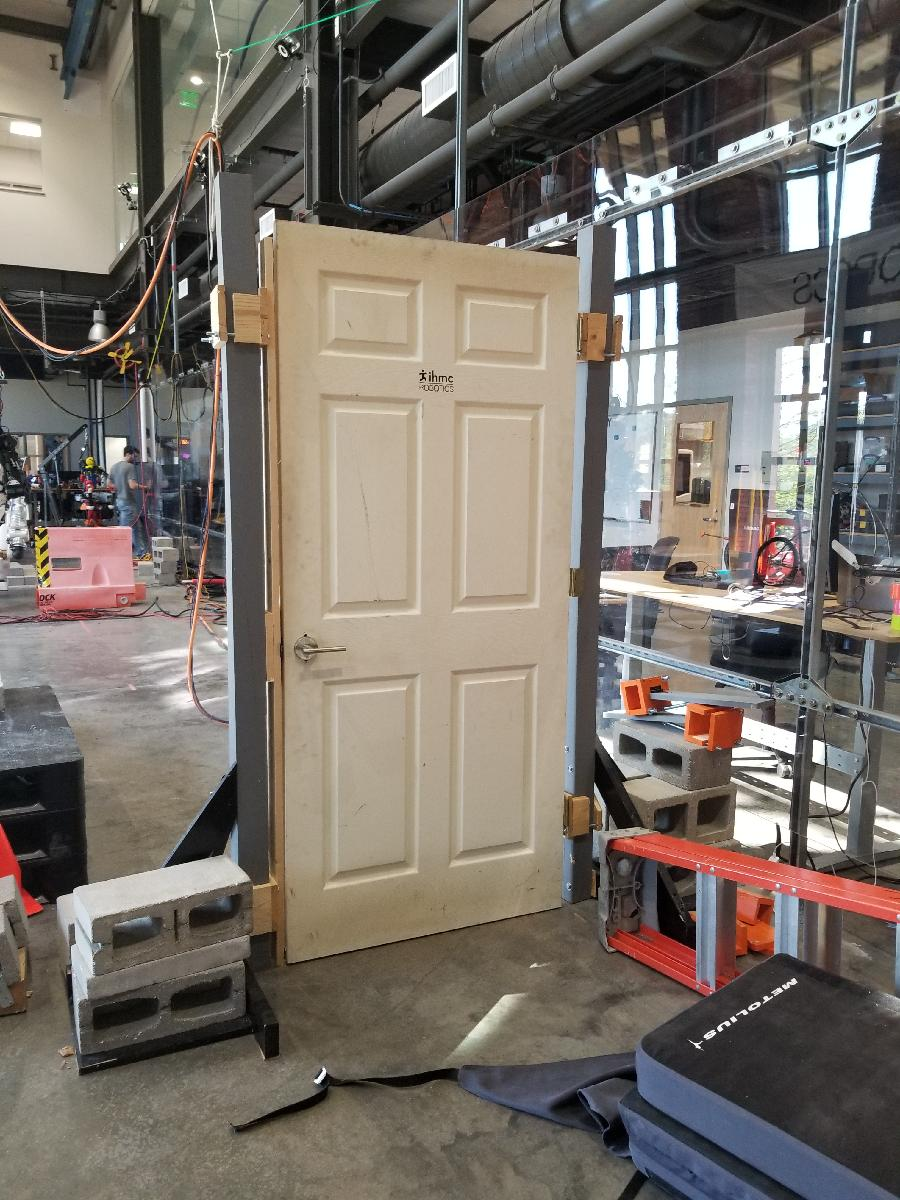door: (263, 200, 577, 973)
doorHandle: (289, 636, 354, 670)
